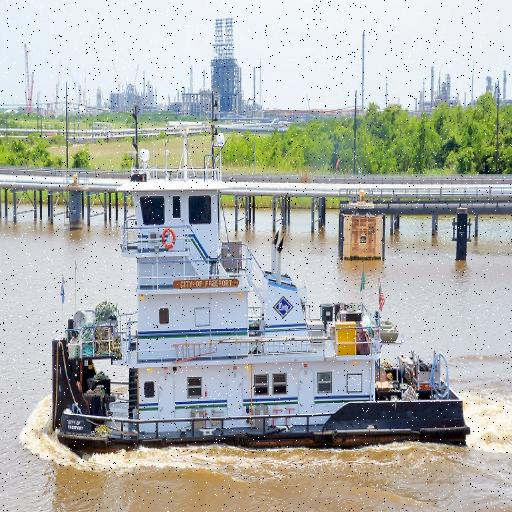tugboat: (48, 126, 475, 463)
